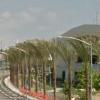Palm tree: (13, 36, 80, 94)
